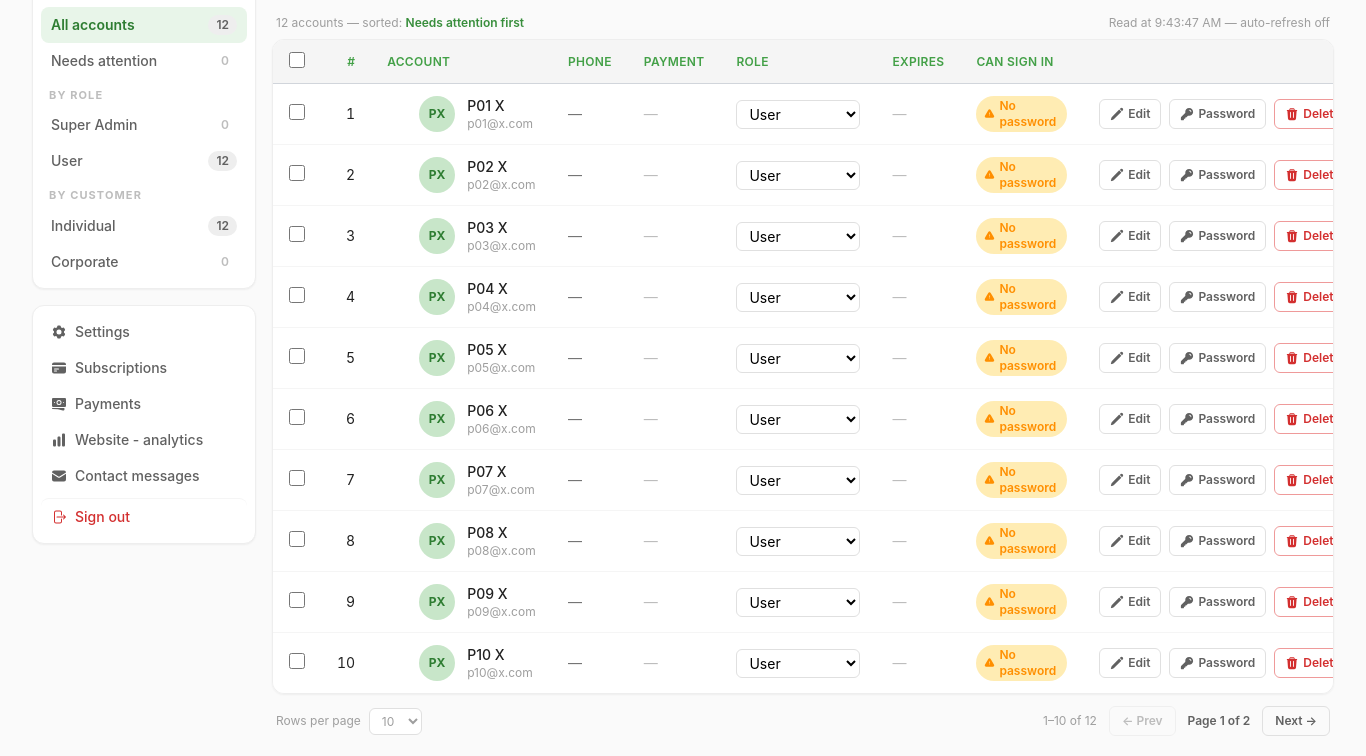
Test: pagination › Prev comes back to the first page
This screenshot has width=1366, height=756.
(page scrolled)
Click the button "Next →" at (1296, 721), box top-left (1262, 706), bottom-right (1330, 736)
(page scrolled)
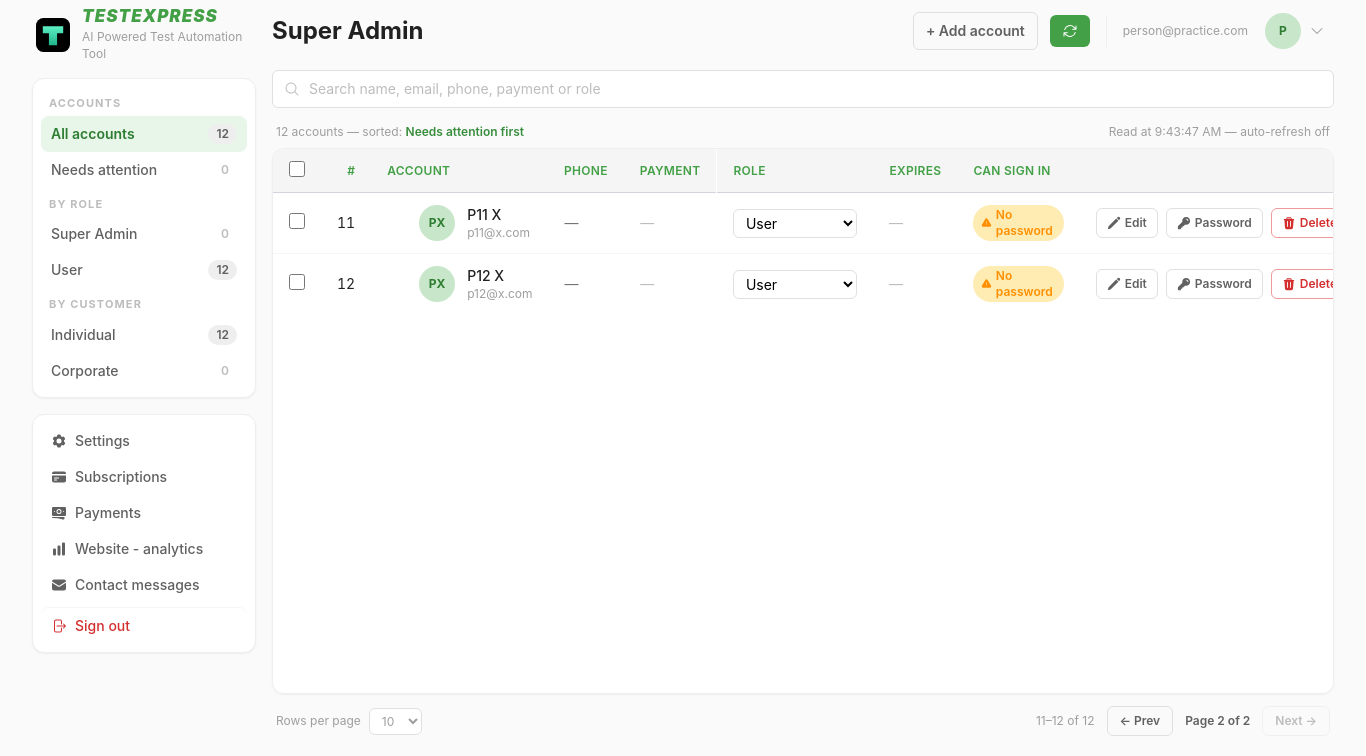
Click the button "← Prev" at (1140, 721), box top-left (1106, 706), bottom-right (1173, 736)
(page scrolled)
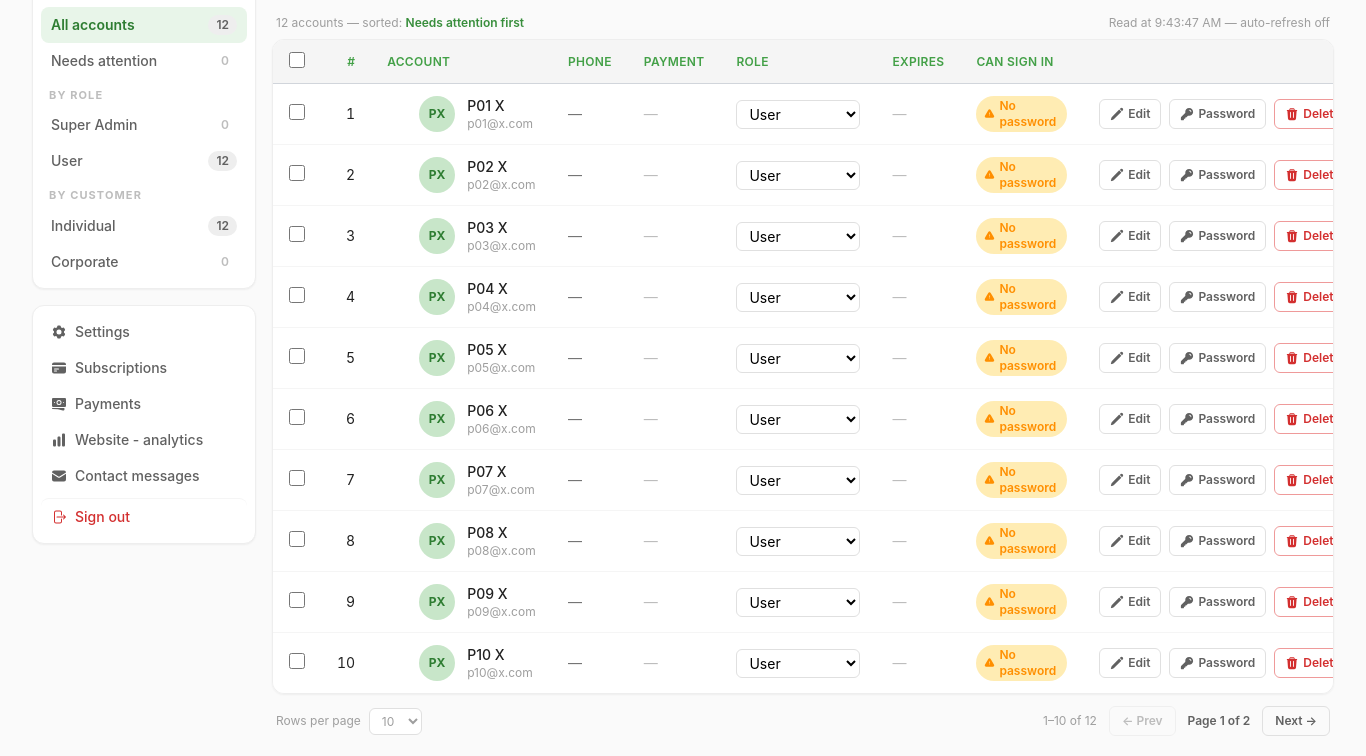
Expected: the navigation bar named "pagination" shows "Page 1 of 2", top-left (272, 706), bottom-right (1334, 736)
